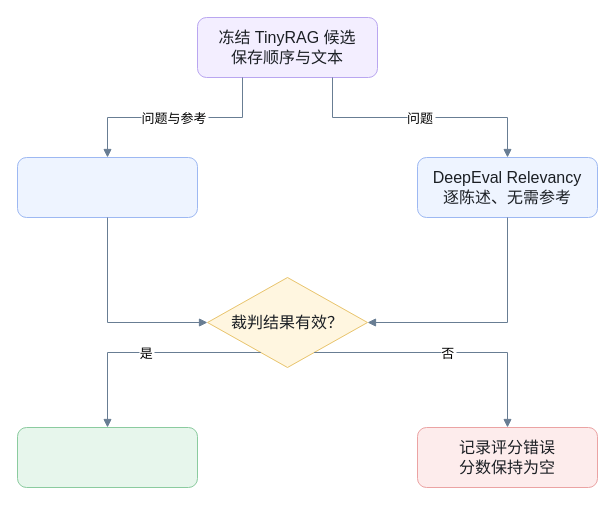
This 615x505 diagram has some shape labels left out. Each missing label, with the centre of its shape:
"DeepEval Precision 逐片段、需要参考" belongs at [107,187].
"保留各自分数 注明单位与裁决" belongs at [107,457].
